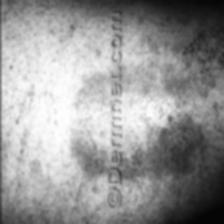Unclassified: (125, 13, 224, 187), (68, 47, 106, 190)
